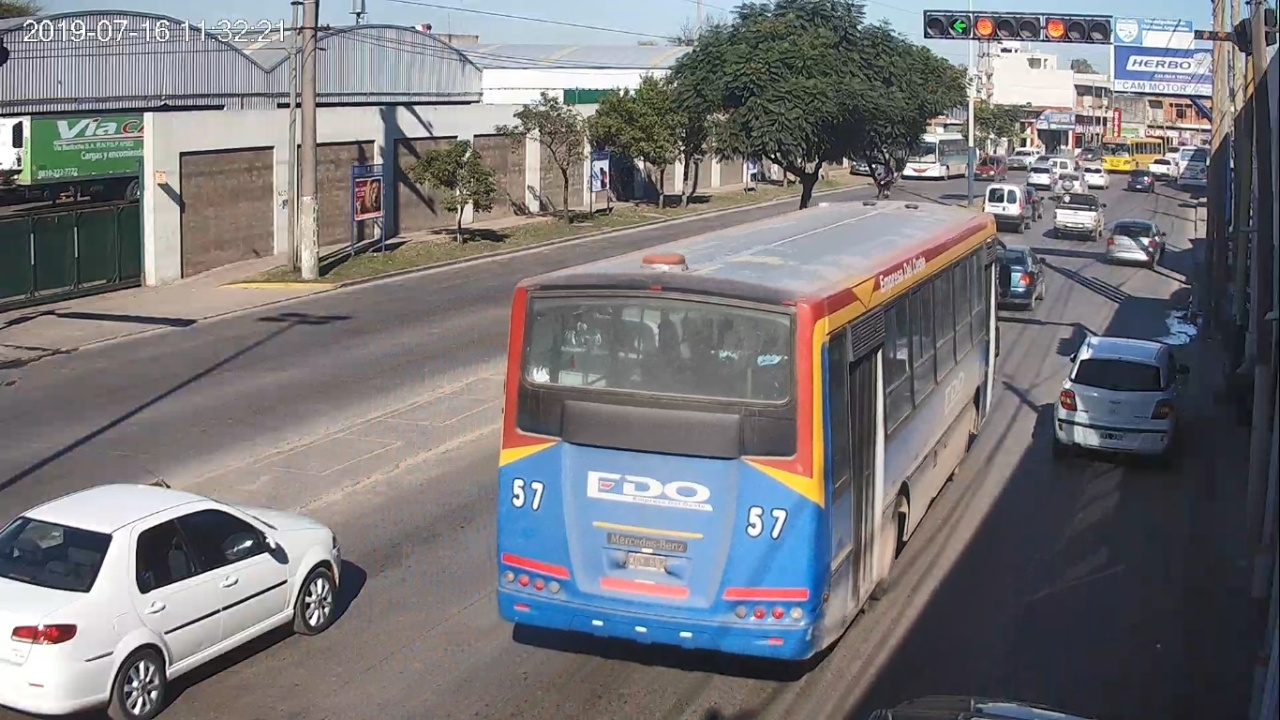bus: (496, 202, 1008, 661)
car: (1, 483, 342, 720), (1054, 337, 1190, 460), (1107, 219, 1167, 268)
